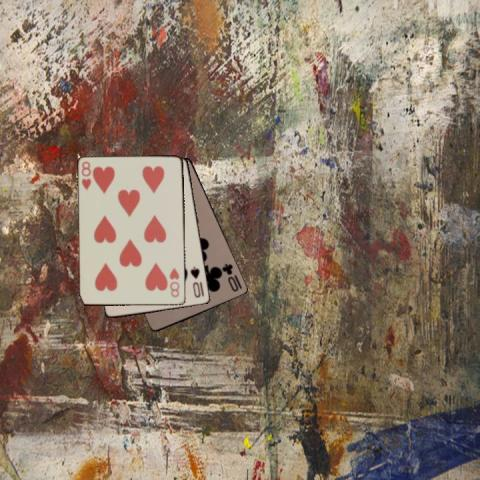10c: (219, 261, 244, 293)
10s: (187, 264, 202, 299)
8h: (166, 264, 180, 298), (78, 159, 92, 191)
